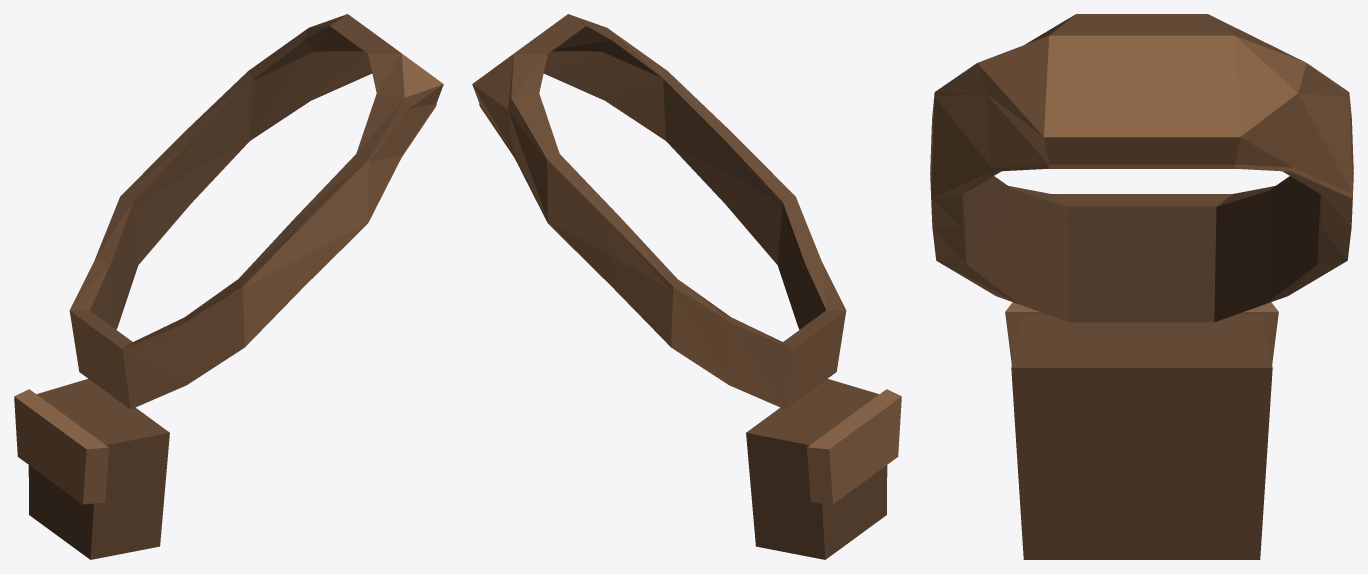
File: person_male_bandolier.obj
3 views of the same model, side by side, from view 1: azimuth 30°, elevation 25°; view 2: azimuth 150°, elevation 25°; view 3: azimuth 270°, elevation 25° (orthographic). The views are drawn at different scales.
Size of the model in its own units: 0.5816 by 0.65 by 0.3404.
